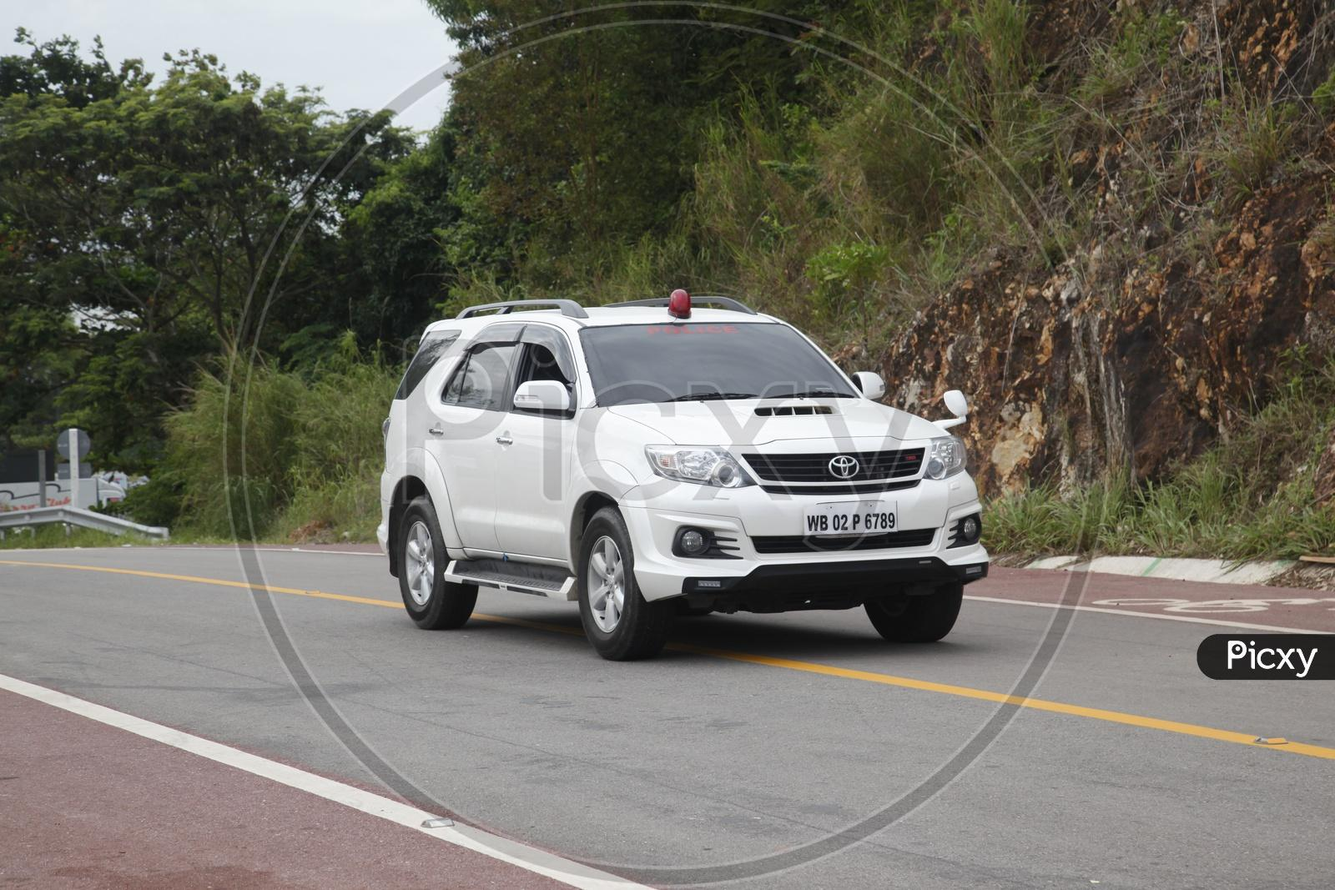Emergency-Vehicles: (376, 277, 986, 661)
